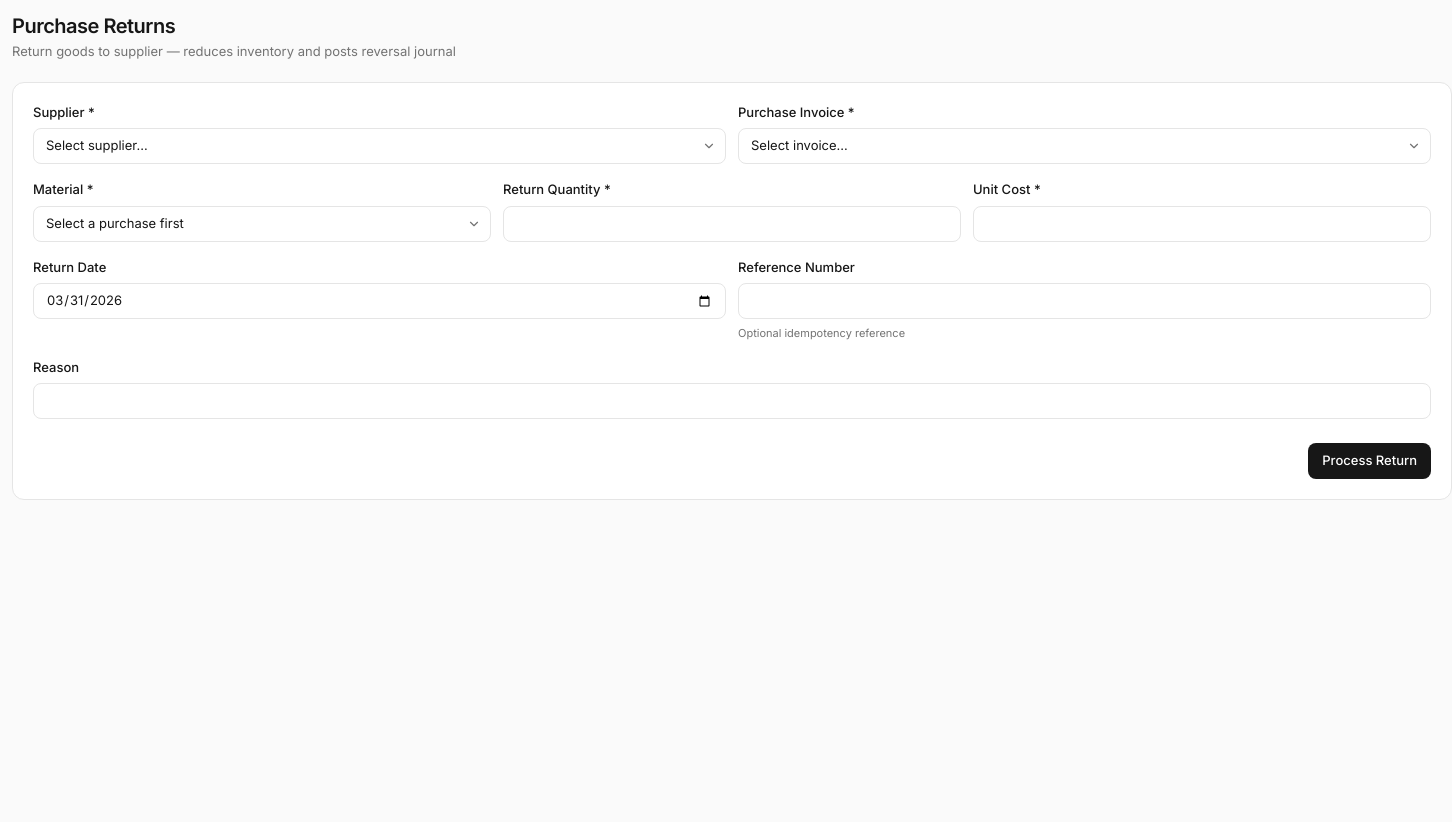
Test: PurchaseReturnsPage › blocks over-quantity return and keeps form open (VAL-P2P-010)
Check: the text "Supplier *" is shown, box [33,104,95,120]
# Select supplier
Select "Acme Materials" in the dropdown labelled "Supplier *" at (380, 146), box [33,128,726,164]
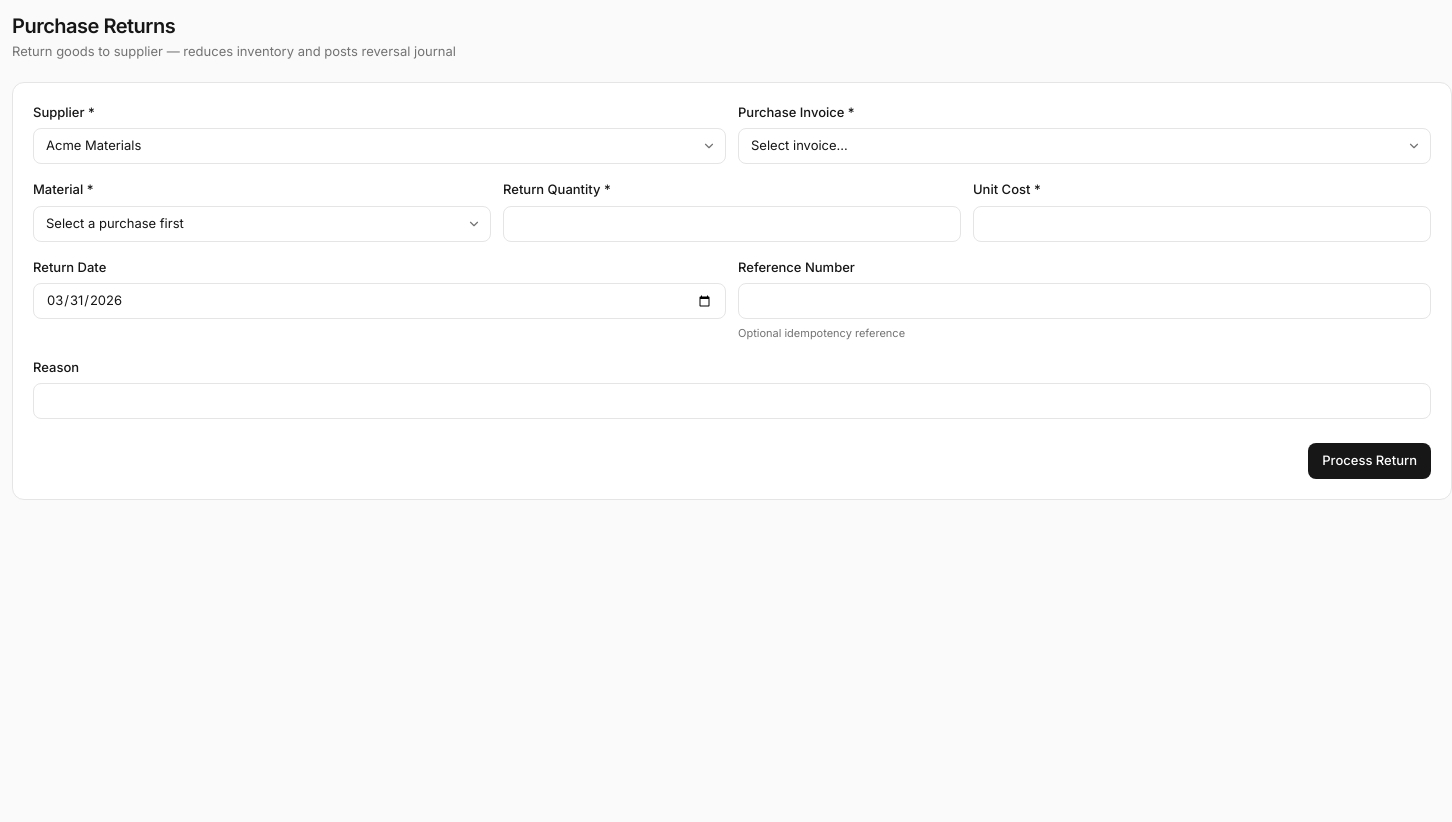
# Select purchase invoice
Select "INV-RM-001 — Acme Materials (01 Mar 2026)" in the dropdown labelled "Purchase Invoice *" at (1084, 146), box [738,128,1431,164]
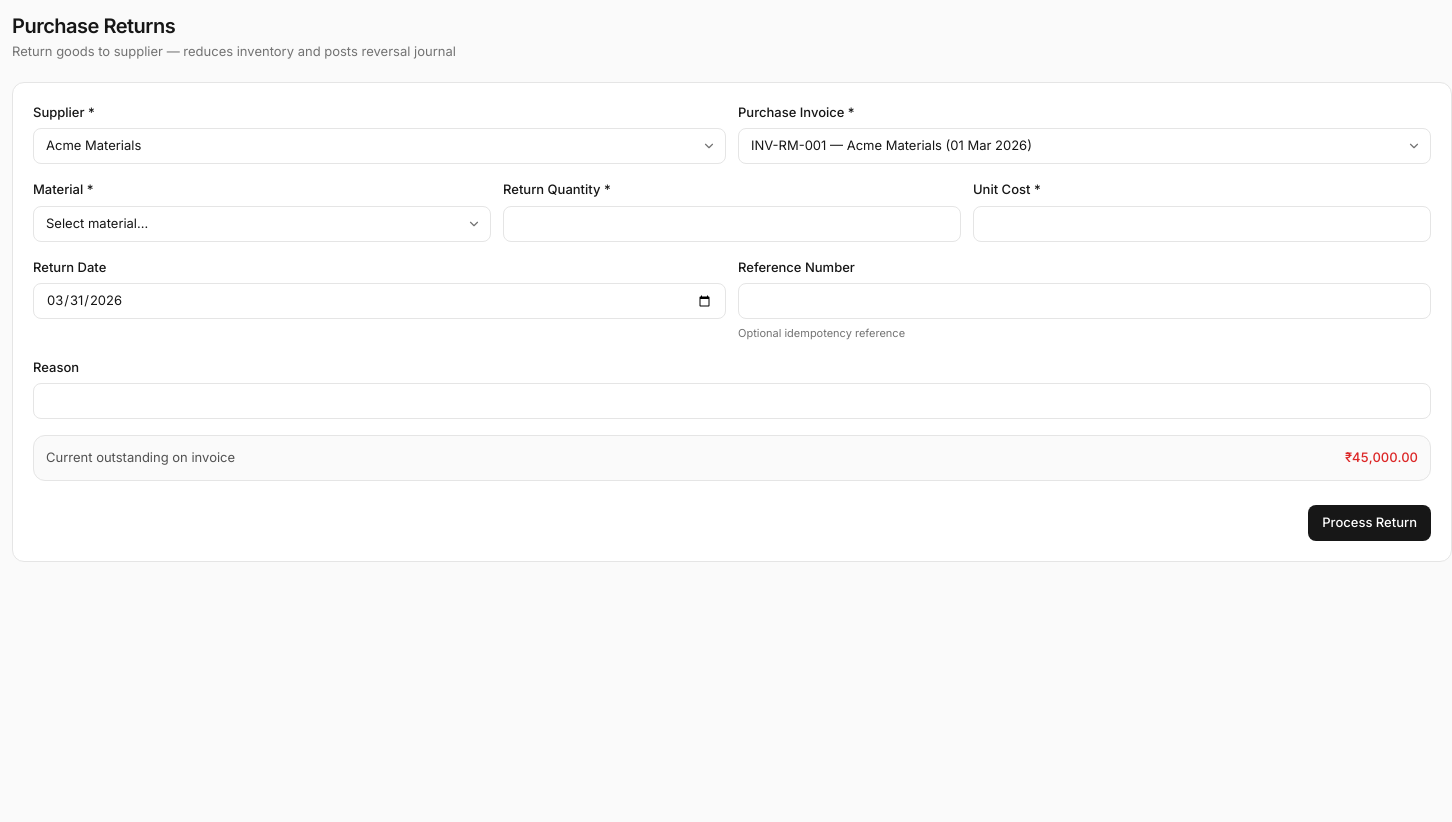
# Select material
Select "Titanium Dioxide" in the dropdown labelled "Material *" at (262, 224), box [33,206,491,242]
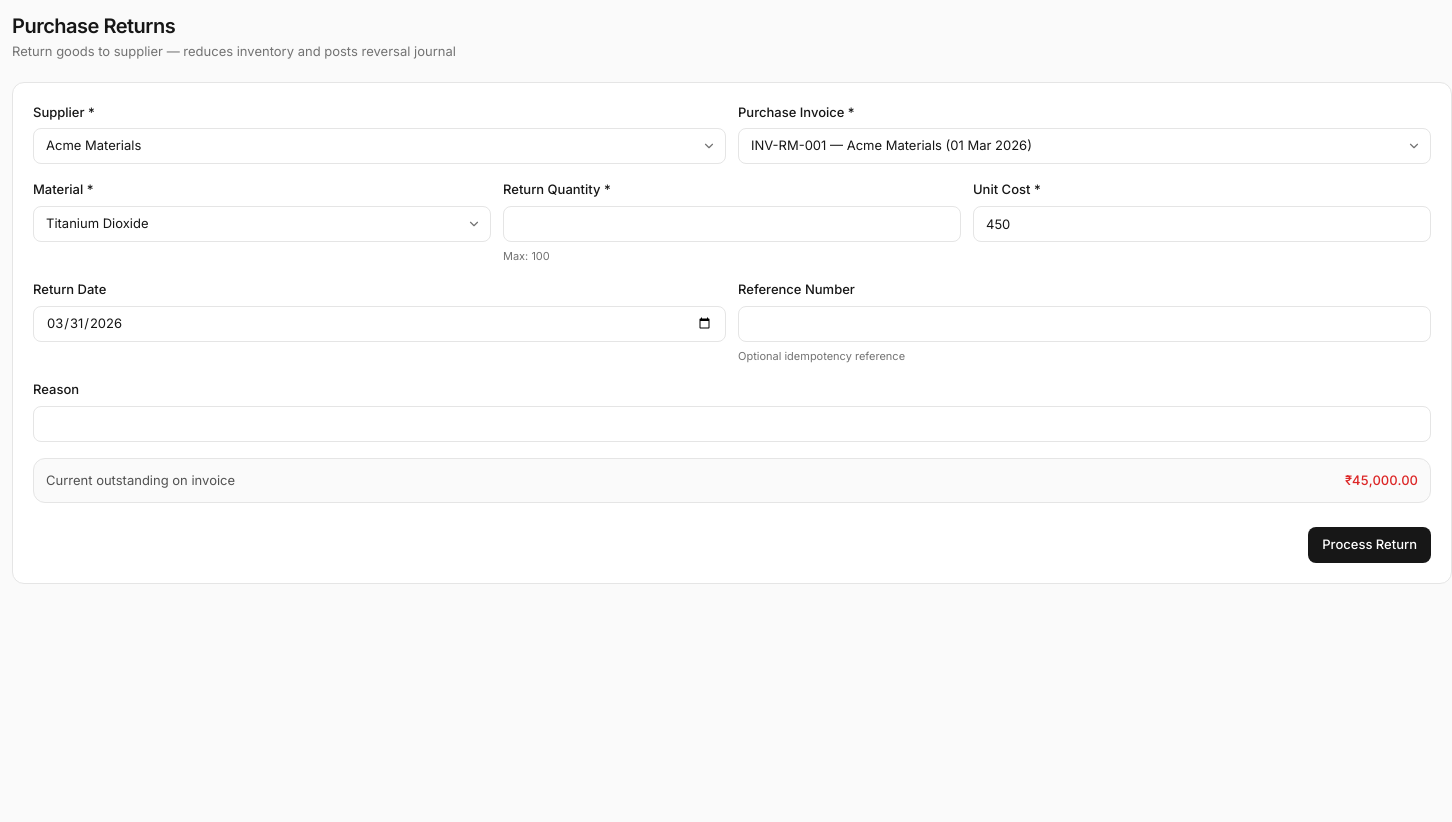
# Enter quantity over the maximum (100)
Type "999" into the number field labelled "Return Quantity *" at (732, 224), box [503,206,961,242]
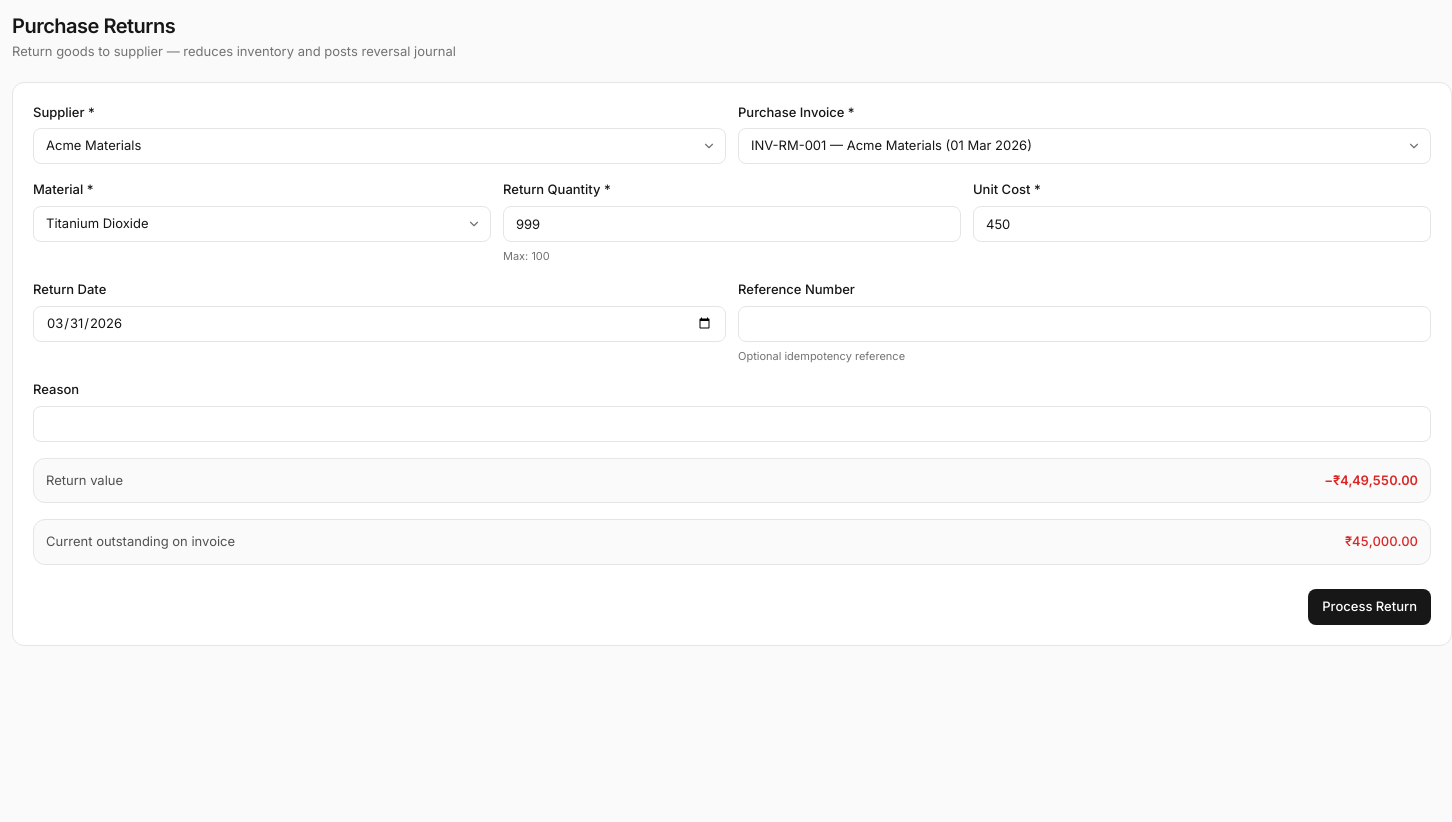
# Attempt to submit
Click the button "Process Return" at (1370, 606), box [1308,588,1431,624]
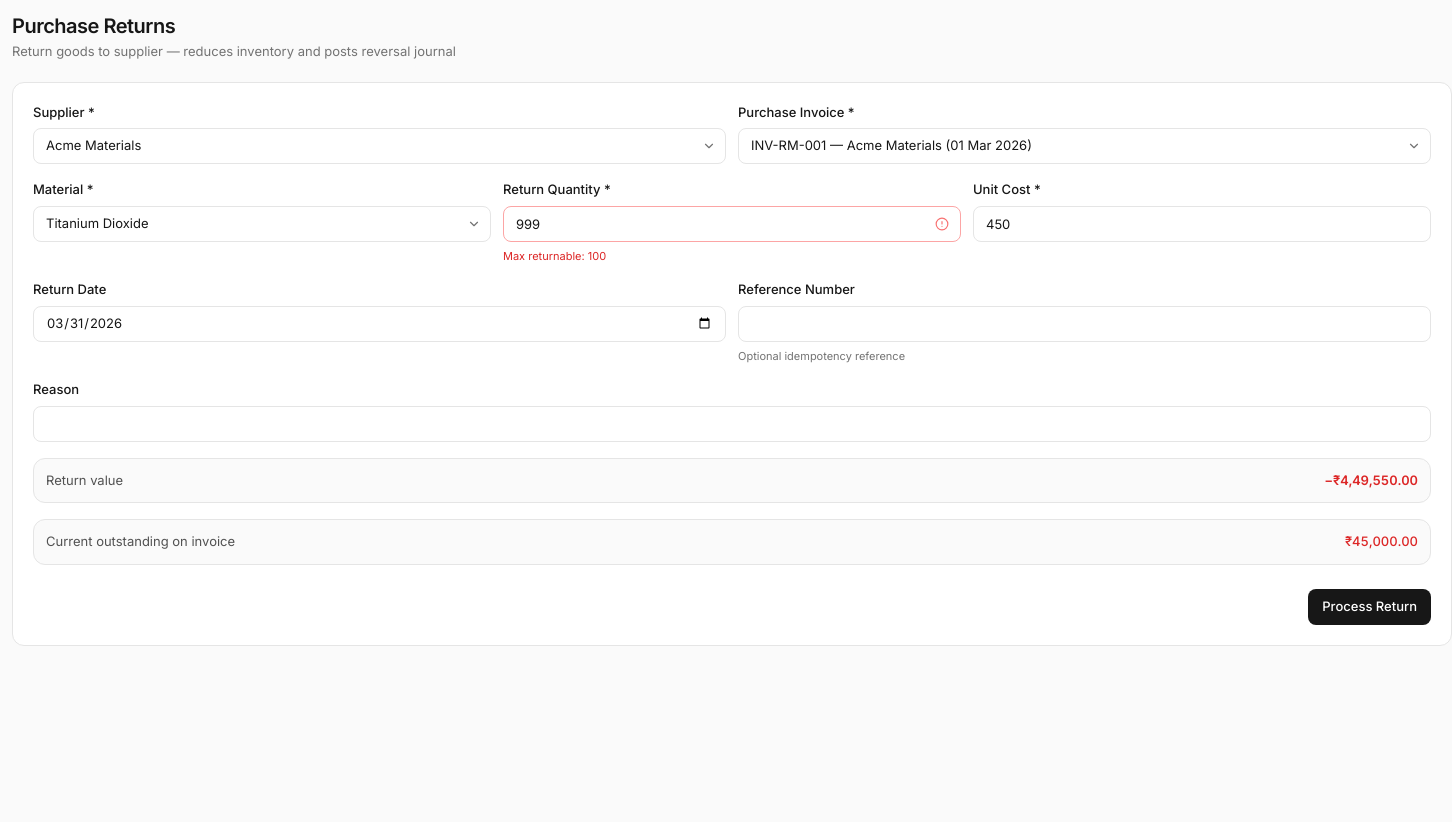
Check: the text "Max returnable: 100" is shown, box [503,248,606,262]
